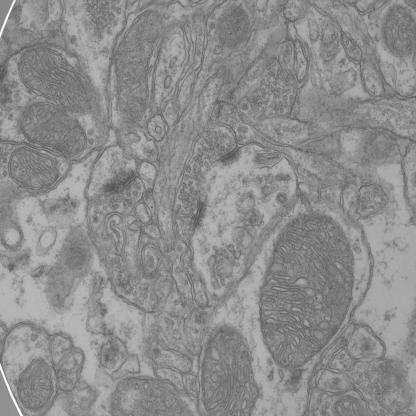mitochondria: (259, 209, 357, 374), (109, 9, 168, 128), (15, 39, 95, 116), (200, 328, 258, 416), (14, 96, 90, 158), (2, 148, 60, 202), (16, 352, 55, 413), (381, 0, 415, 62), (214, 6, 251, 54)
